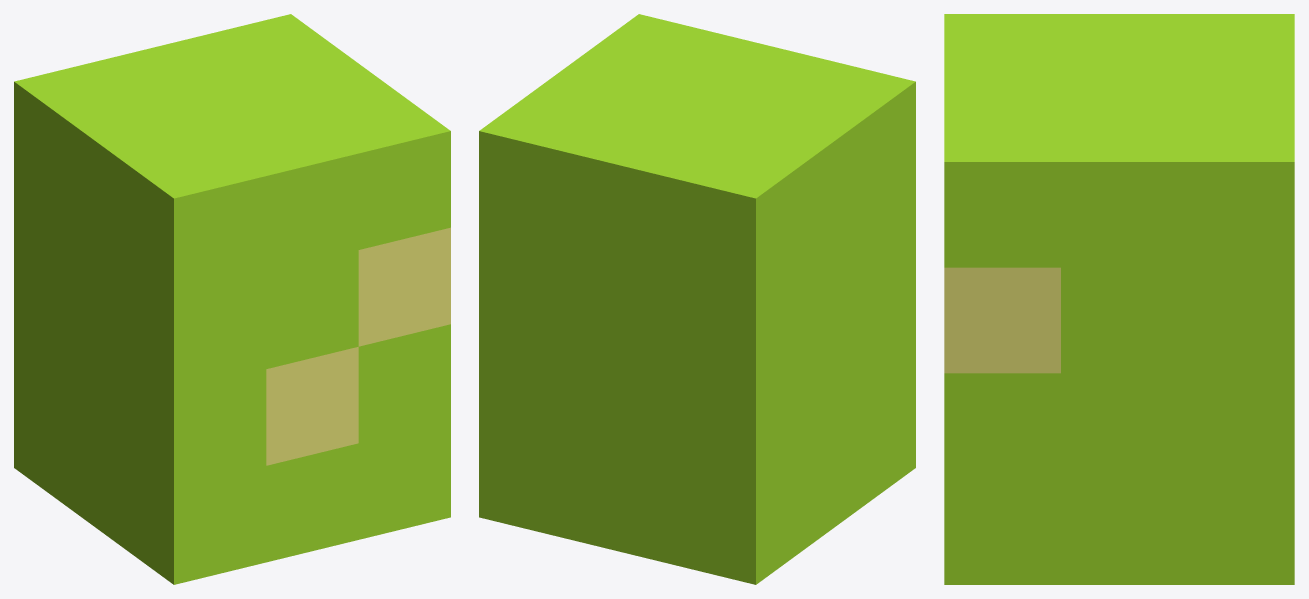
Rendered from blob_a_walk_1.obj.
The picture shows the model from 3 angles, left to right: view 1: azimuth 30°, elevation 25°; view 2: azimuth 150°, elevation 25°; view 3: azimuth 270°, elevation 25°; orthographic projection. The views are drawn at different scales.
Bounding box in the file's own units: 0.3 × 0.4 × 0.3.
1 material, 1 textured.
